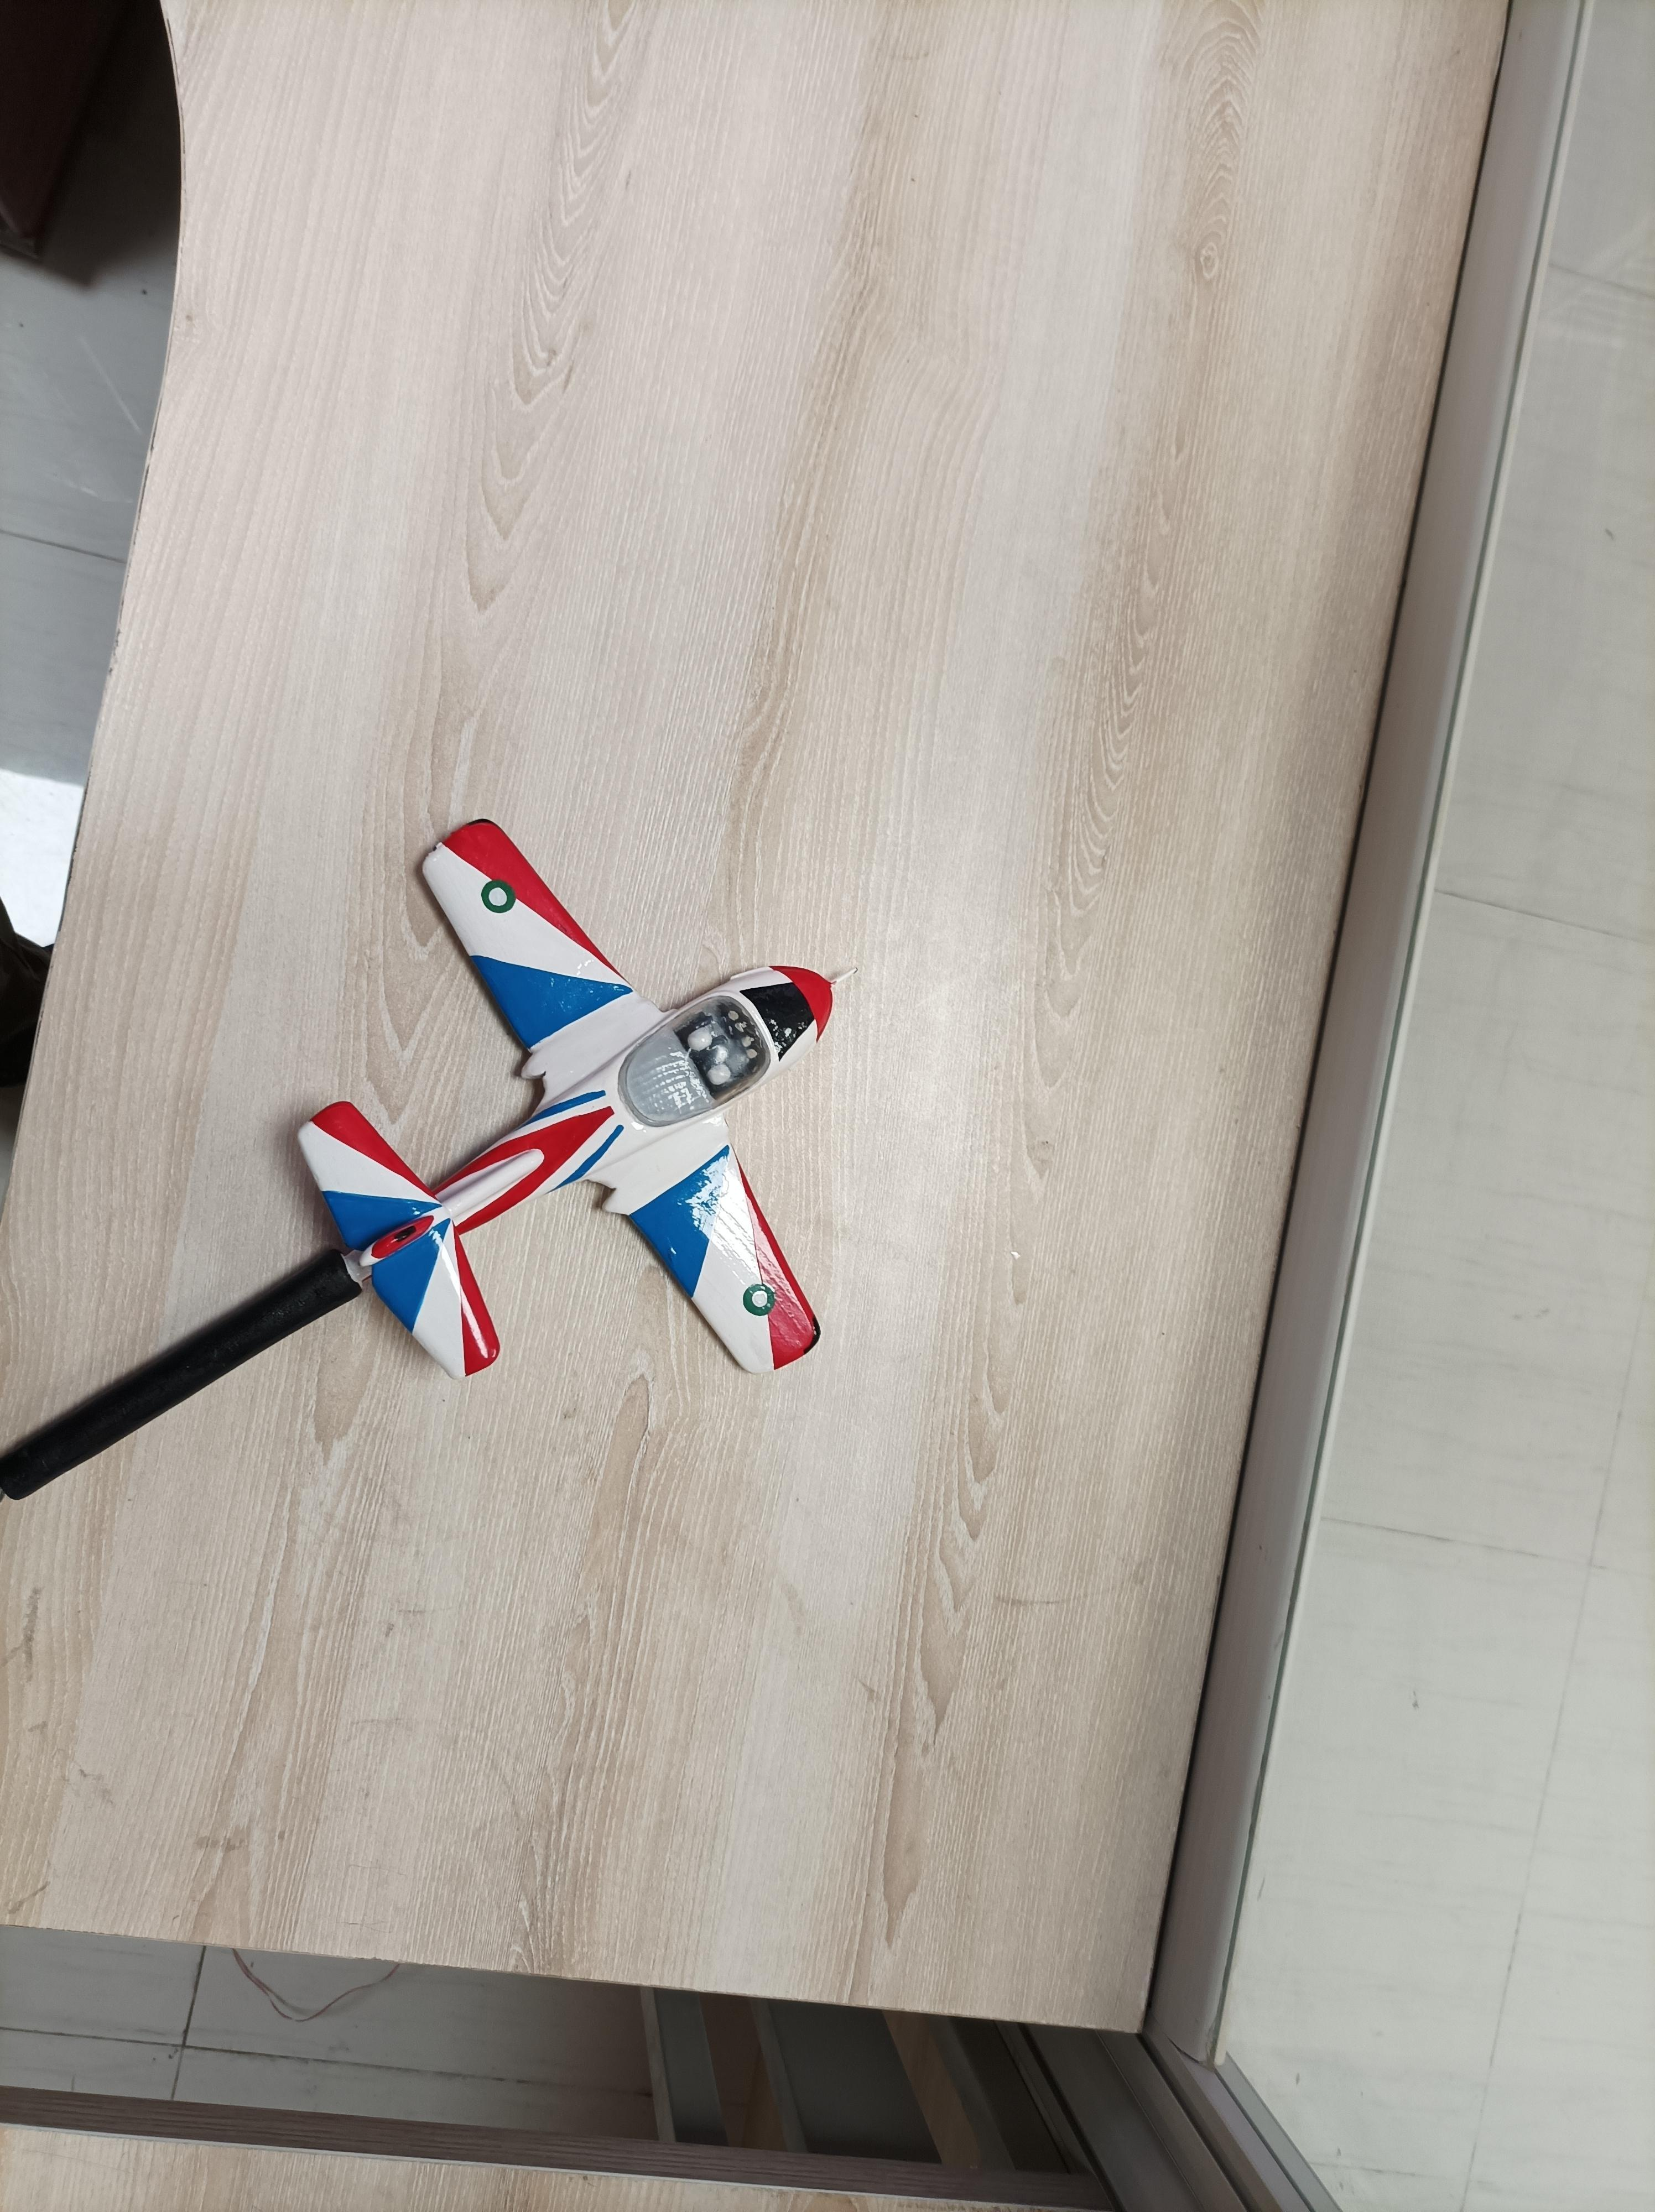Airplane: (280, 801, 866, 1440)
